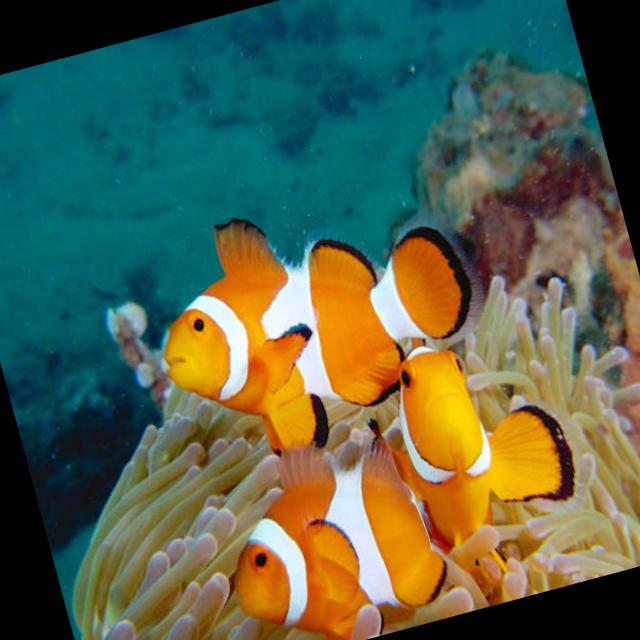ClownFish: (134, 166, 497, 472), (204, 396, 611, 640), (374, 327, 512, 547)
